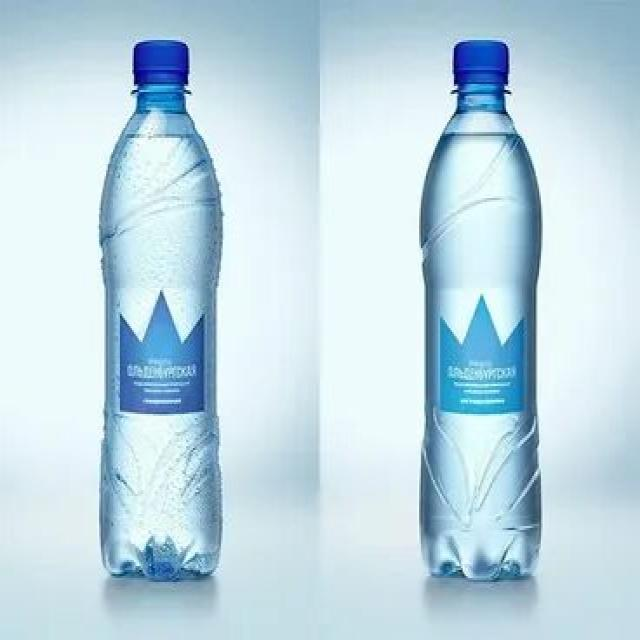blue: (417, 81, 542, 582), (98, 89, 222, 578)
